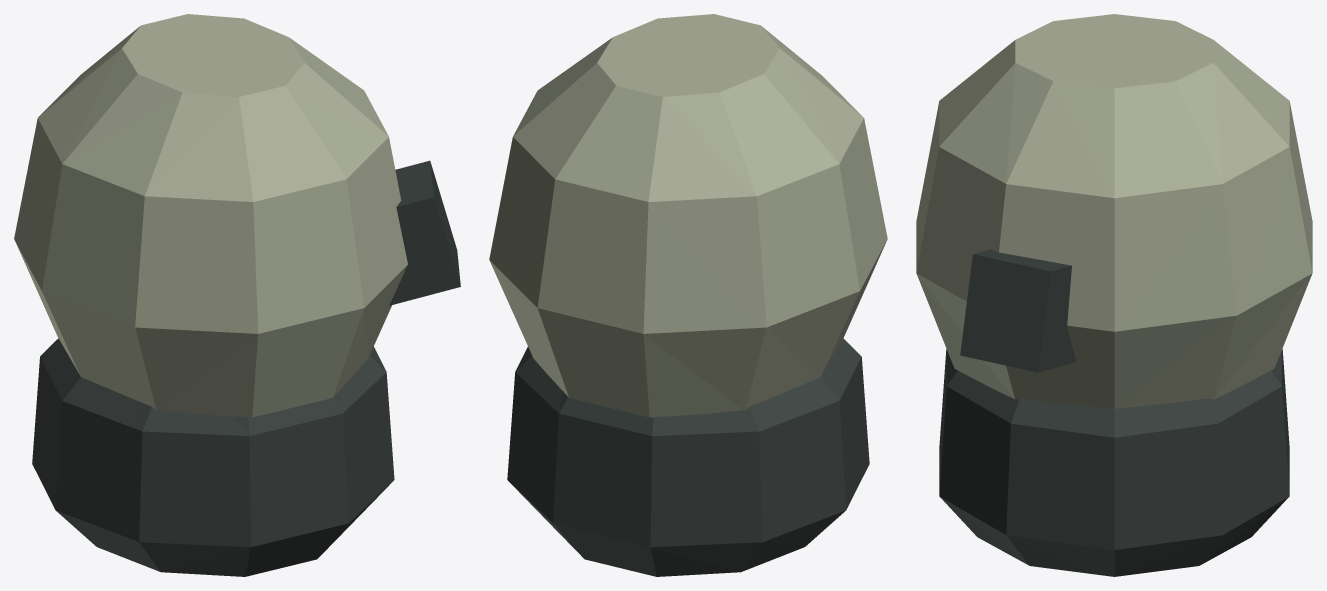
The model's file is pikeman_leg_left_front.obj.
3 renders of one model, left to right at view 1: azimuth 30°, elevation 25°; view 2: azimuth 150°, elevation 25°; view 3: azimuth 270°, elevation 25°, orthographic.
Parts seen in each view (by area): view 1: pikeman_leg_left_front; view 2: pikeman_leg_left_front; view 3: pikeman_leg_left_front.
Part boxes in pixels (x1,y1,x2,y2): pikeman_leg_left_front: [14, 14, 460, 576]; pikeman_leg_left_front: [489, 14, 887, 576]; pikeman_leg_left_front: [916, 14, 1312, 576].
Size of the model in its own units: 0.5506 by 0.645 by 0.4945.
